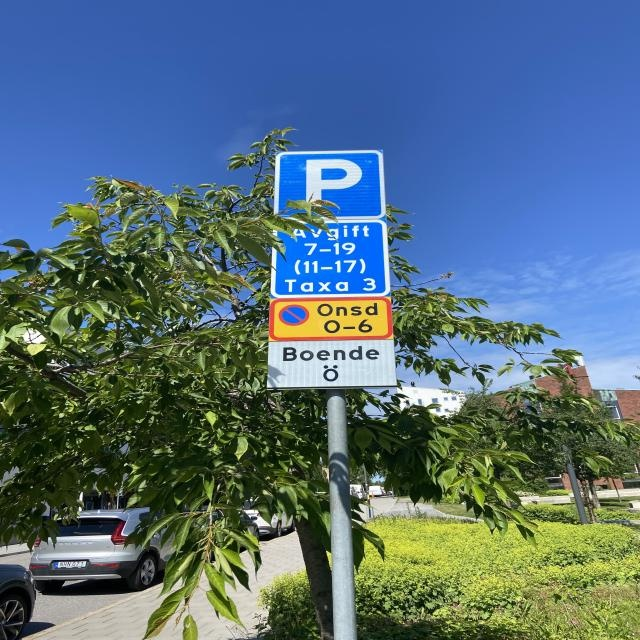P-skylt: (278, 152, 382, 218)
